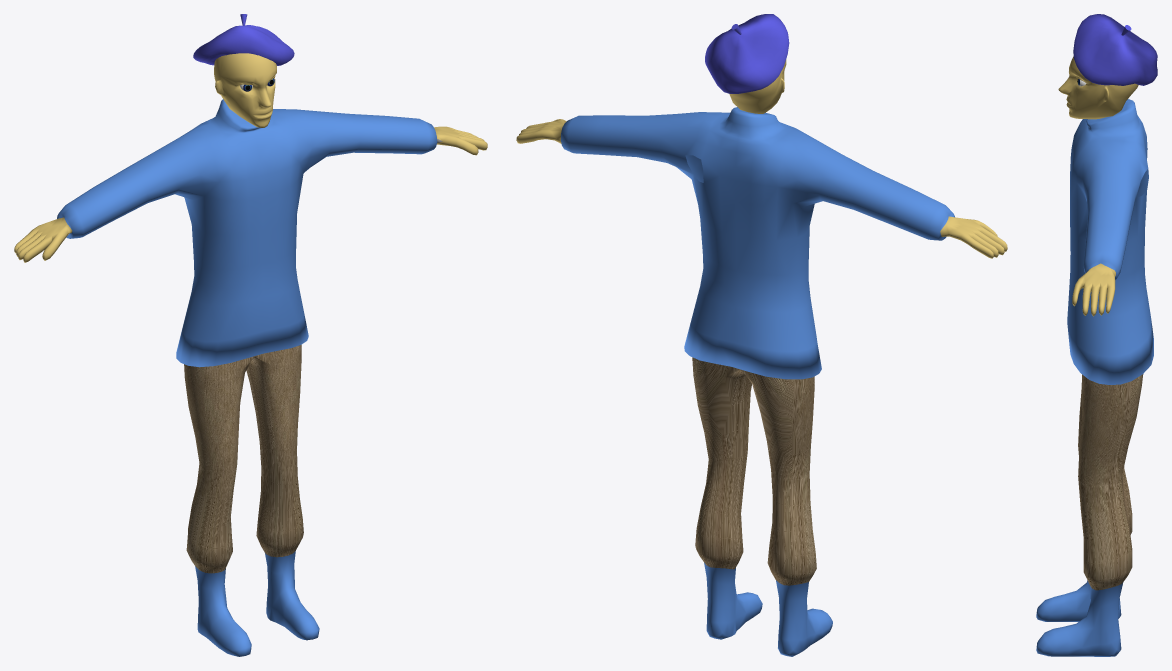
The model's file is pierreupdated.obj.
3 views of the same model, side by side, from view 1: azimuth 30°, elevation 25°; view 2: azimuth 150°, elevation 25°; view 3: azimuth 270°, elevation 25° (orthographic). The views are drawn at different scales.
Parts seen in each view (by area): view 1: torso, Sphere001, hat; view 2: torso, hat, Sphere001; view 3: torso, hat, Sphere001.
Boxes of the visible parts, x1,y1,x2,y2 form: torso: [14, 99, 487, 656]; Sphere001: [214, 53, 276, 127]; hat: [193, 25, 294, 65]; torso: [516, 107, 1007, 656]; hat: [705, 14, 789, 93]; Sphere001: [729, 59, 786, 113]; torso: [1036, 99, 1153, 656]; hat: [1073, 14, 1157, 85]; Sphere001: [1058, 56, 1138, 119].
Size of the model in its own units: 11.3 by 13.94 by 2.49.
